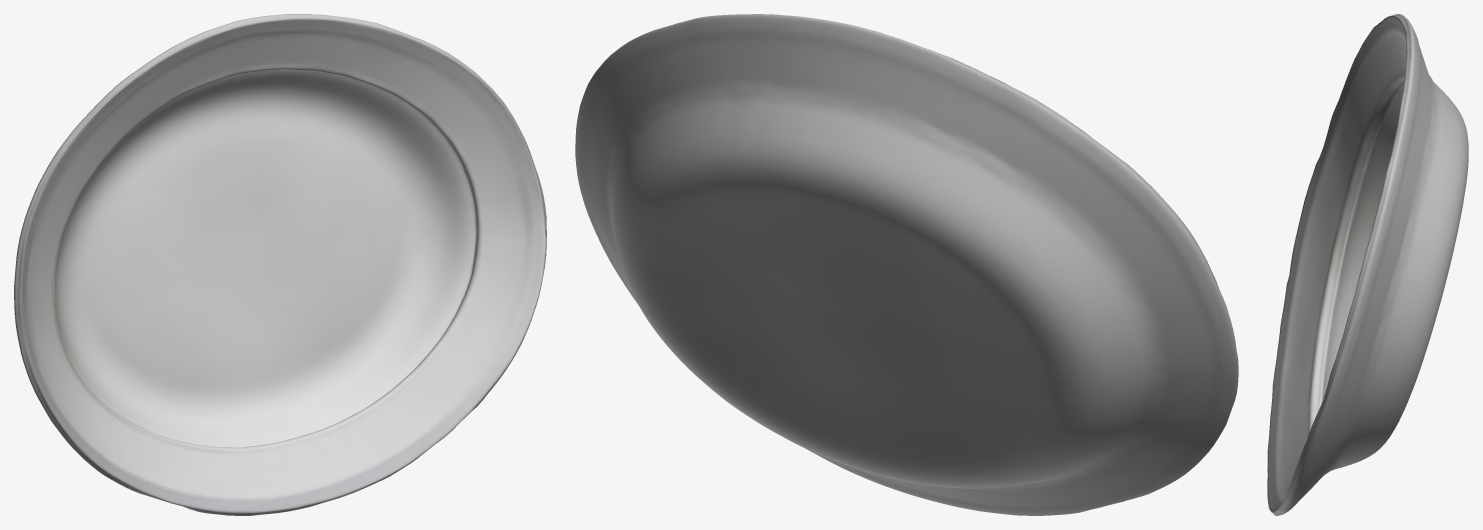
The model's file is model_serving_platter_meat.glb.
3 views of the same model, side by side, from view 1: azimuth 30°, elevation 25°; view 2: azimuth 150°, elevation 25°; view 3: azimuth 270°, elevation 25° (orthographic). The views are drawn at different scales.
Visible parts, largest first — view 1: tripo_node_409170b6-eef7-4f41-854c-f14ed51eac76; view 2: tripo_node_409170b6-eef7-4f41-854c-f14ed51eac76; view 3: tripo_node_409170b6-eef7-4f41-854c-f14ed51eac76.
Boxes of the visible parts, x1=… form: tripo_node_409170b6-eef7-4f41-854c-f14ed51eac76: x1=14, y1=14, x2=546, y2=515; tripo_node_409170b6-eef7-4f41-854c-f14ed51eac76: x1=575, y1=14, x2=1238, y2=515; tripo_node_409170b6-eef7-4f41-854c-f14ed51eac76: x1=1267, y1=14, x2=1468, y2=515.
Size of the model in its own units: 0.9991 by 0.7866 by 0.3304.
1 material, 1 textured.
